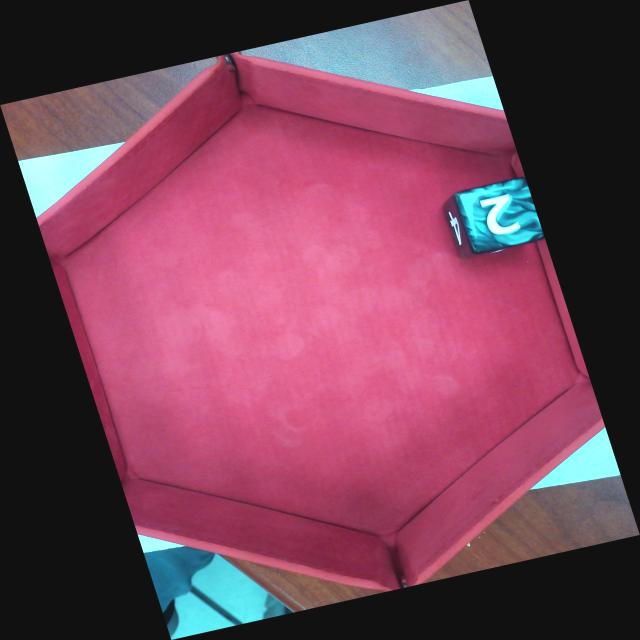dice: (455, 177, 546, 254)
